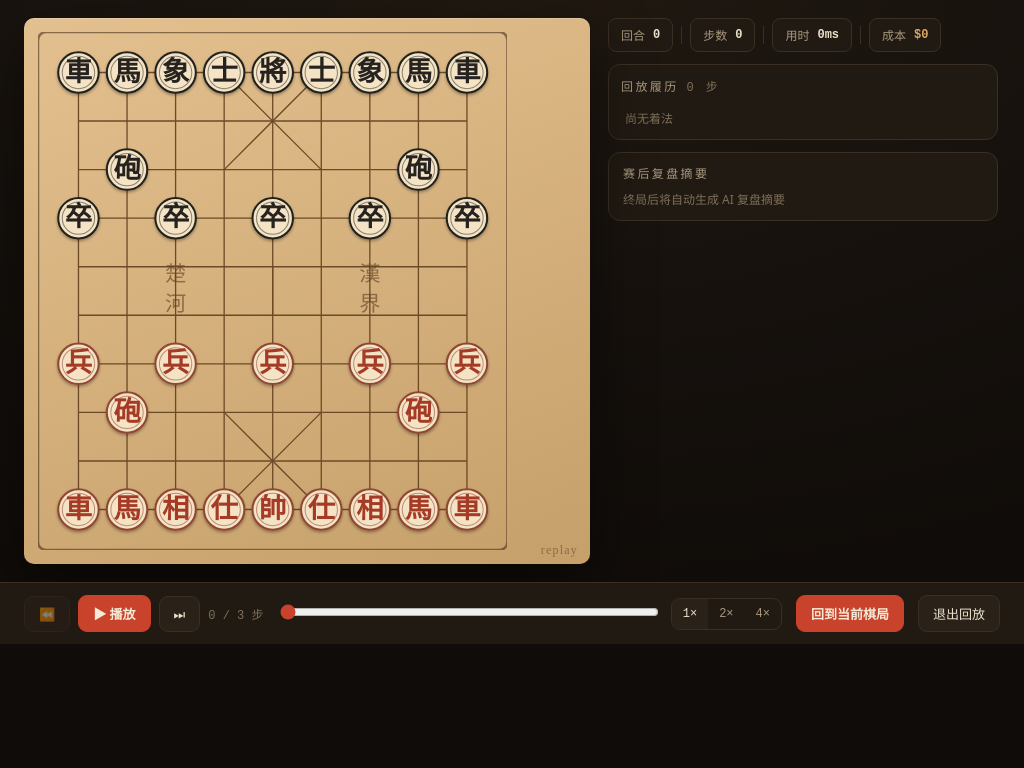
Test: Replay 视图 › 加载后:初始棋盘 32 子、履历空、时间轴 max=finish seq;步进后棋盘更新
Expected: the text with test id "replay-half" reads "0", [735, 28, 742, 42]
// 单步 0 → 2:红炮到 e3
Click the button with test id "replay-step". click: (179, 614)
box: [159, 596, 200, 632]
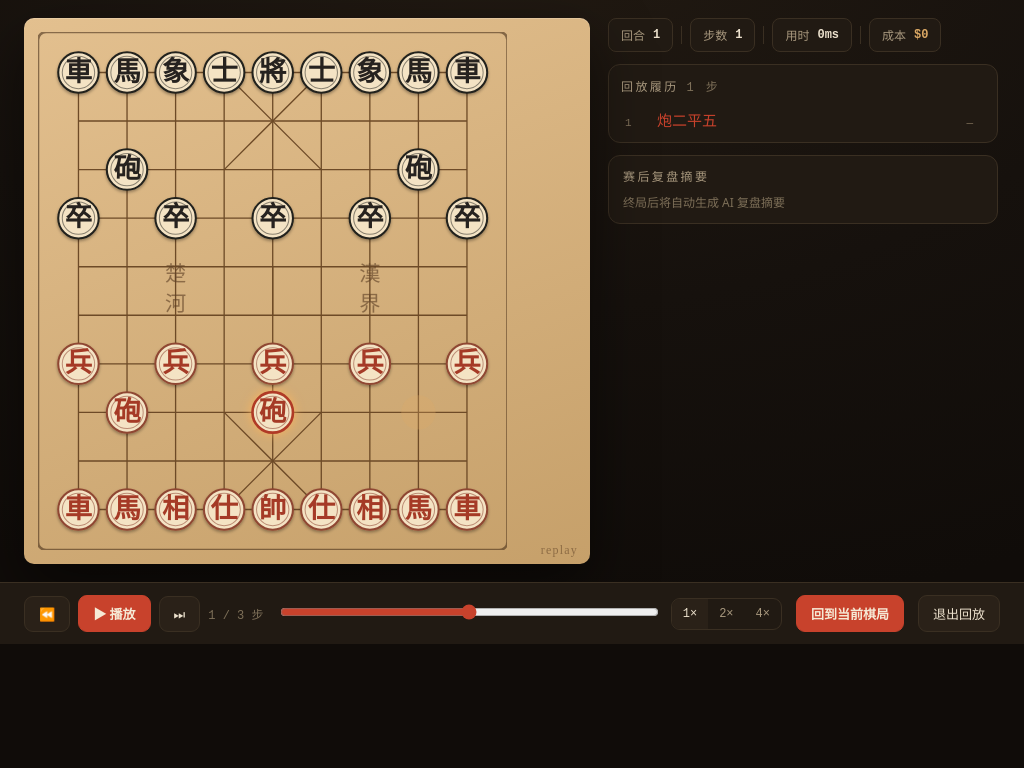
Expected: the text with test id "replay-half" reads "1", [735, 28, 742, 42]
Expected: the element with test id "replay-view" shows "炮二平五", [657, 113, 717, 129]
//  回退:回到初始
Click the button with test id "replay-back". click: (47, 614)
box: [24, 596, 70, 632]
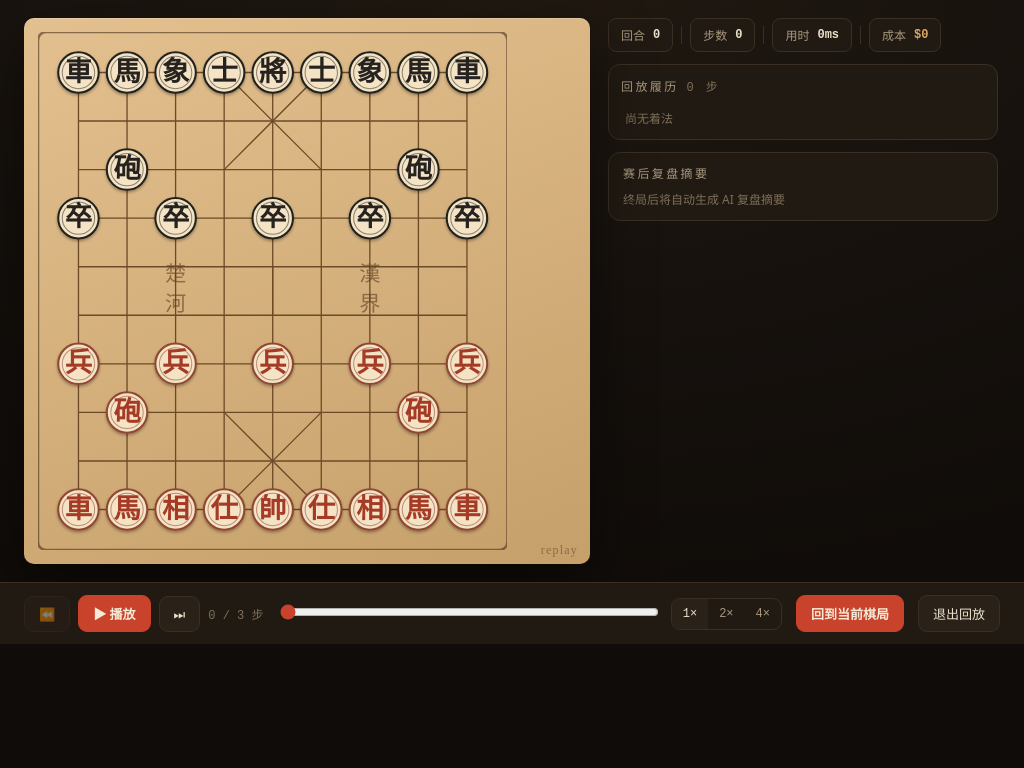
Expected: the text with test id "replay-half" reads "0", [735, 28, 742, 42]
